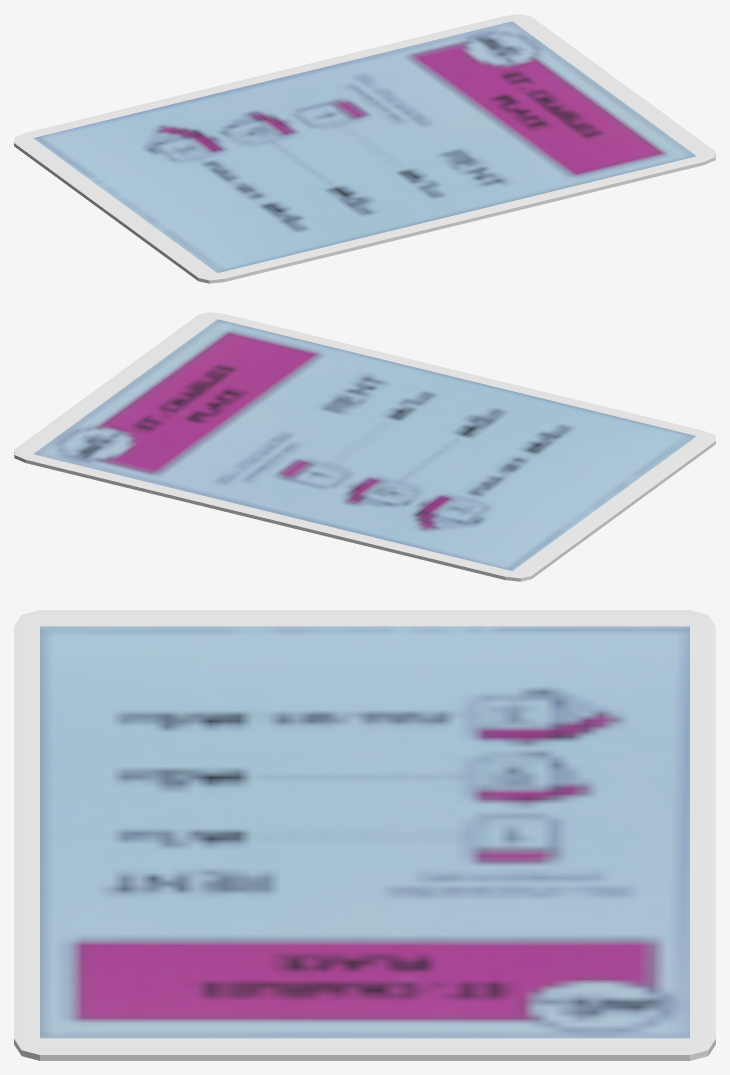
Rendered from stcharles.glb.
3 views of the same model, one above another, from view 1: azimuth 30°, elevation 25°; view 2: azimuth 150°, elevation 25°; view 3: azimuth 270°, elevation 25° (orthographic). The views are drawn at different scales.
Visible parts, largest first — view 1: Cube; view 2: Cube; view 3: Cube.
Part boxes in pixels (x1=…): Cube: x1=14, y1=14, x2=715, y2=283; Cube: x1=14, y1=312, x2=715, y2=581; Cube: x1=14, y1=610, x2=715, y2=1060.
Size of the model in its own units: 0.6 by 0.004 by 0.4.
Materials: 3 (2 with a texture image).
